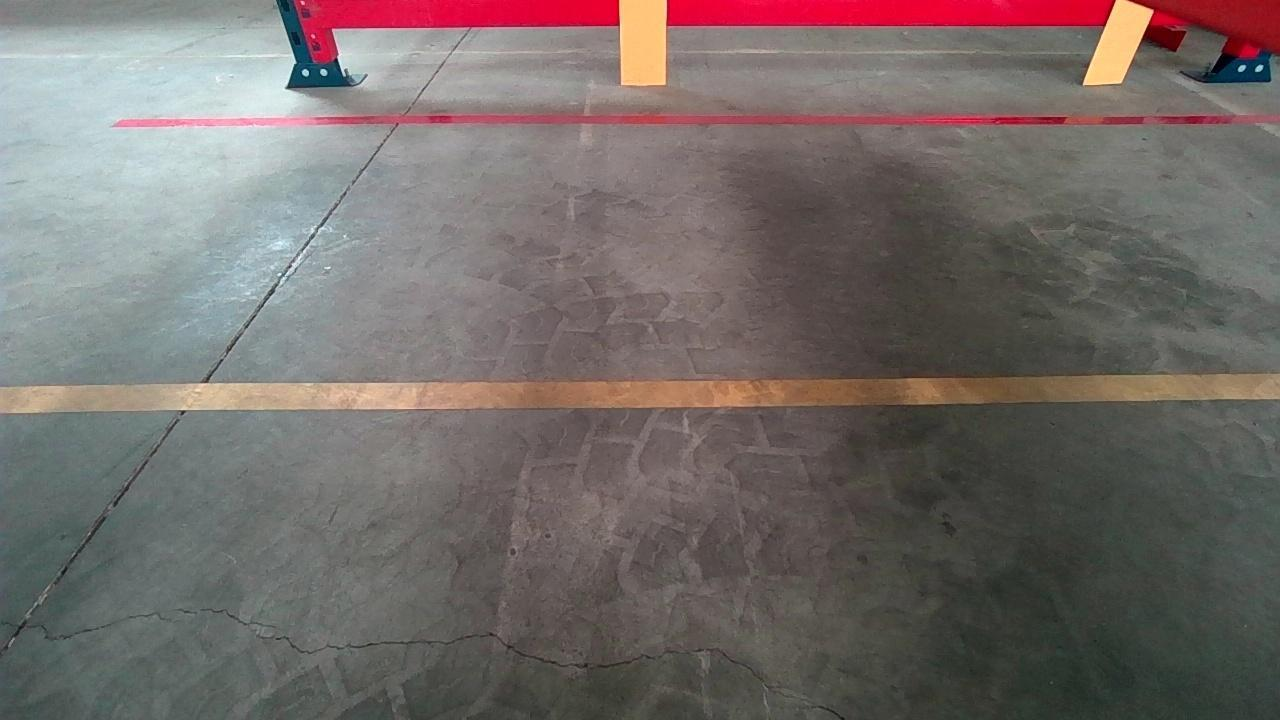h_rack: (307, 0, 1196, 24)
orange_strip: (1085, 0, 1154, 82), (620, 0, 668, 82)
red_line: (118, 103, 1274, 136)
